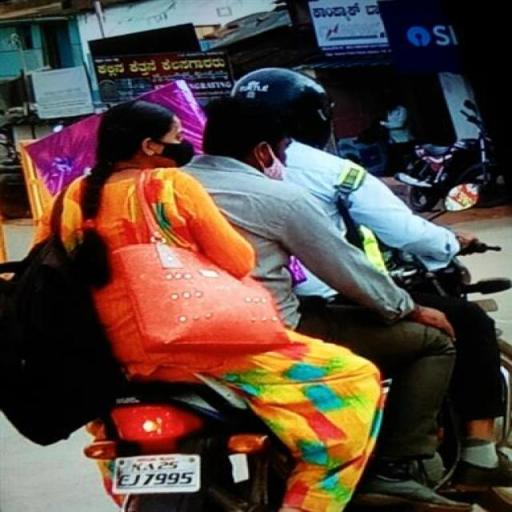tripple riding: (11, 60, 507, 355)
